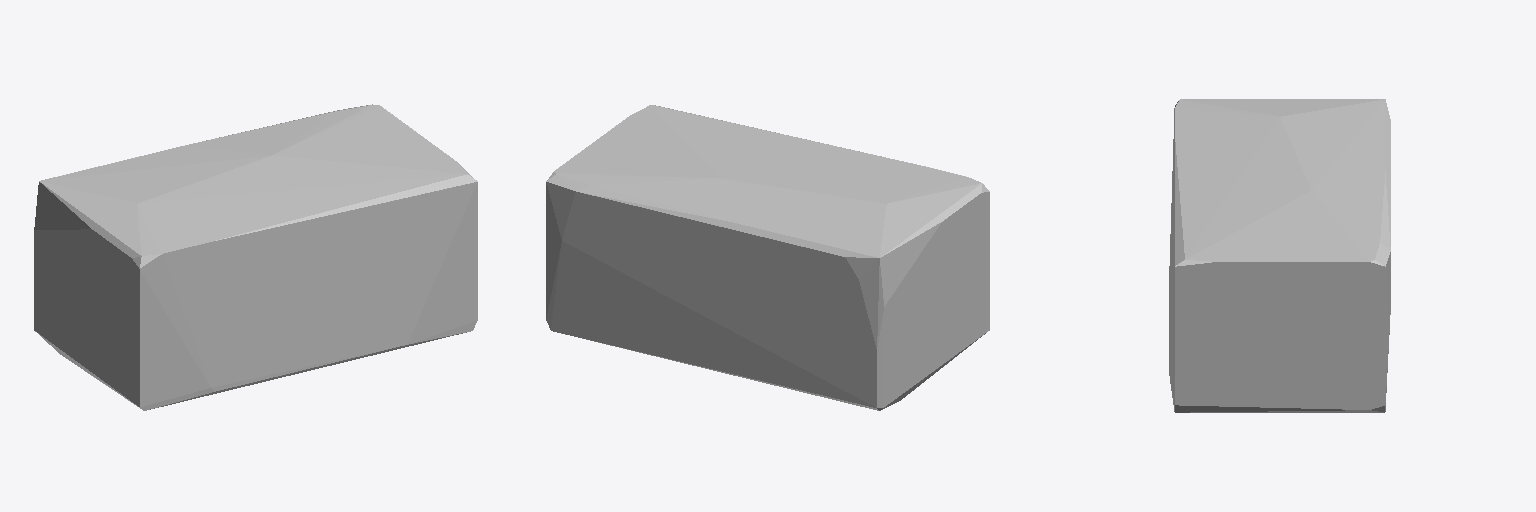
3 renders of one model, left to right at view 1: azimuth 30°, elevation 25°; view 2: azimuth 150°, elevation 25°; view 3: azimuth 270°, elevation 25°, orthographic.
Visible parts, largest first — view 1: convex_0; view 2: convex_0; view 3: convex_0.
Part boxes in pixels (x1,y1,x2,y2): convex_0: (34, 104, 477, 410); convex_0: (546, 105, 989, 410); convex_0: (1169, 99, 1390, 412).
Size of the model in its own units: 0.1565 by 0.0719 by 0.0888.